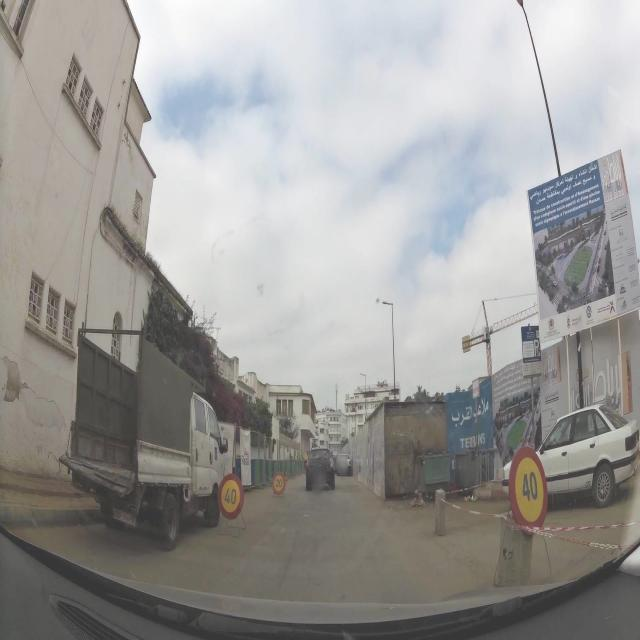car: (534, 402, 639, 510), (305, 446, 336, 490), (334, 453, 353, 476)
